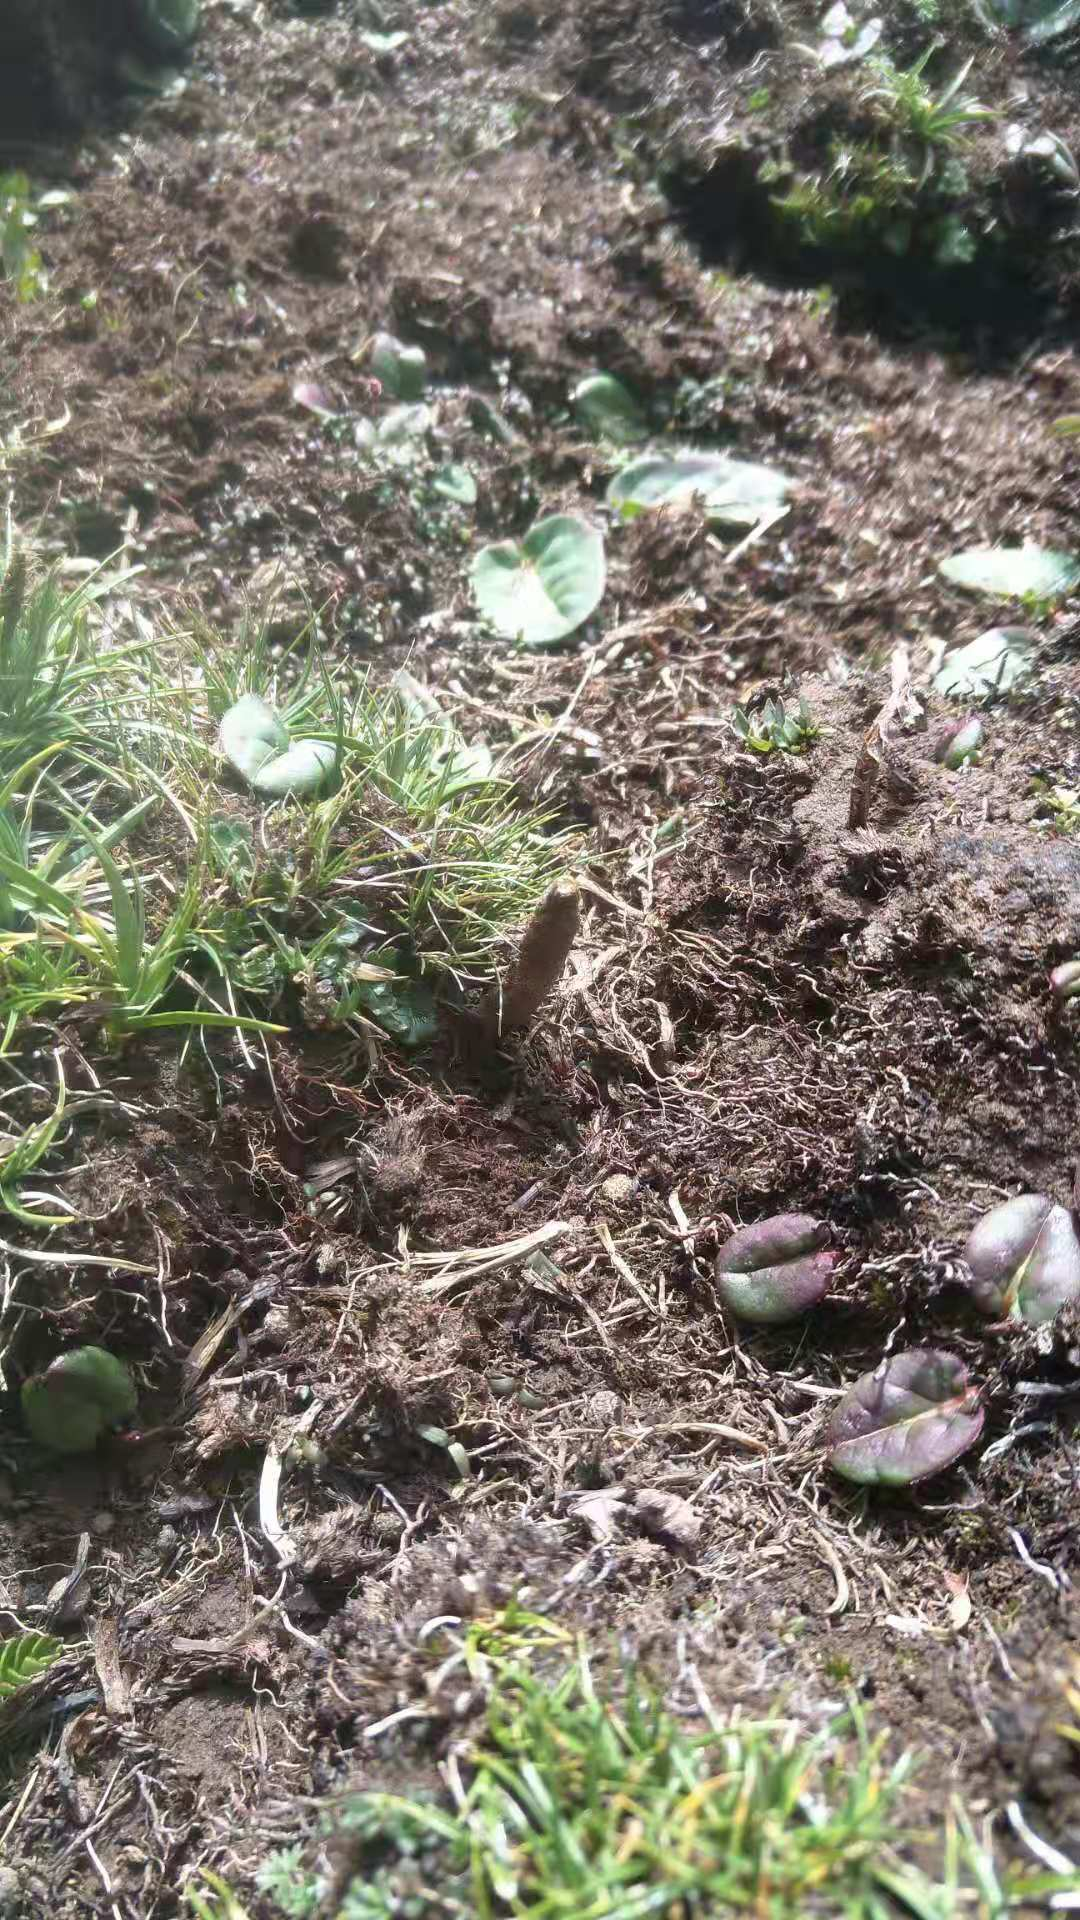Chongcao: (497, 878, 580, 1034)
